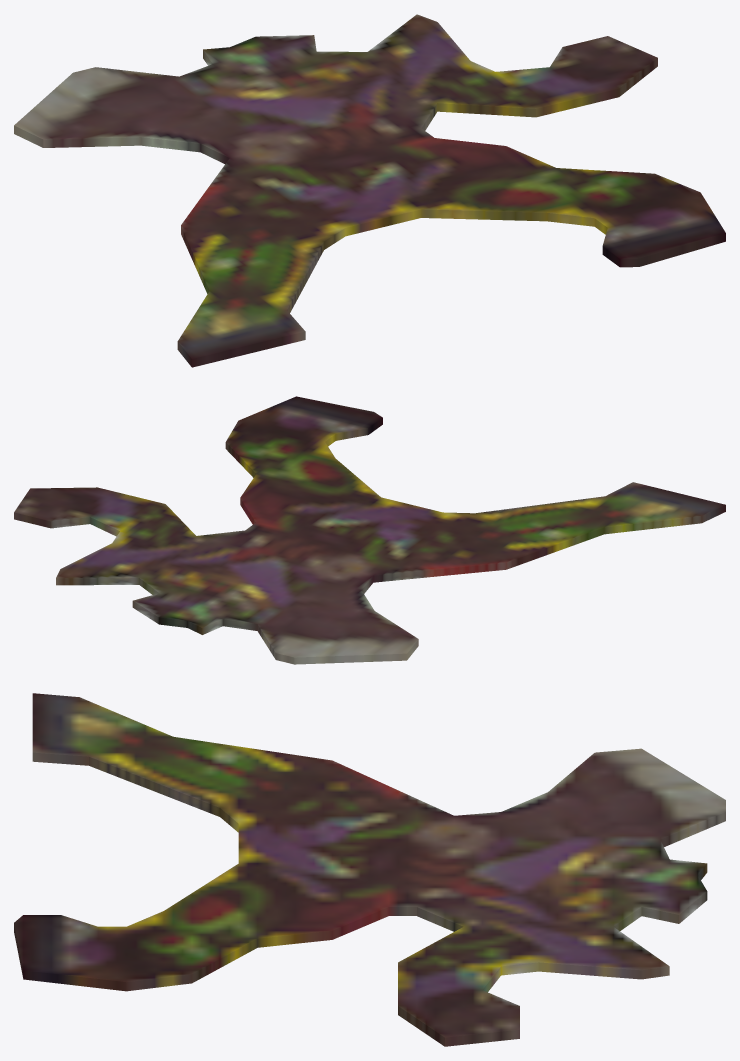
File: MayChien.glb
The picture shows the model from 3 angles, top to bottom: view 1: azimuth 30°, elevation 25°; view 2: azimuth 150°, elevation 25°; view 3: azimuth 270°, elevation 25°; orthographic projection. The views are drawn at different scales.
Visible parts, largest first — view 1: MayChien; view 2: MayChien; view 3: MayChien.
Boxes of the visible parts, x1,y1,x2,y2 form: MayChien: (14,14,725,367); MayChien: (14,396,725,664); MayChien: (14,693,725,1046).
Size of the model in its own units: 0.4032 by 0.005 by 0.3522.
1 material, 1 textured.
